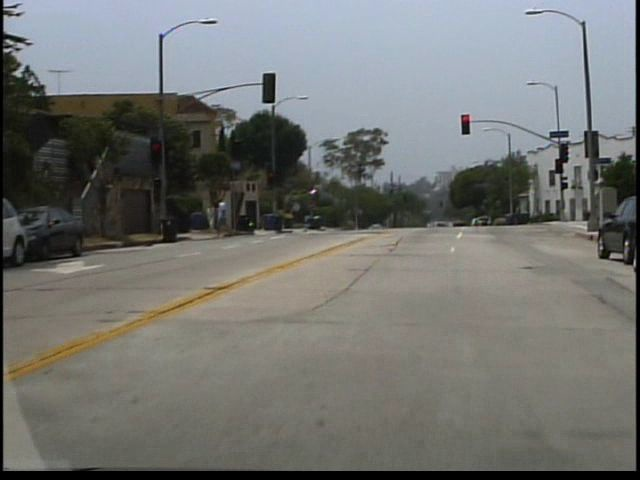person: (220, 197, 236, 240), (211, 203, 220, 236)
